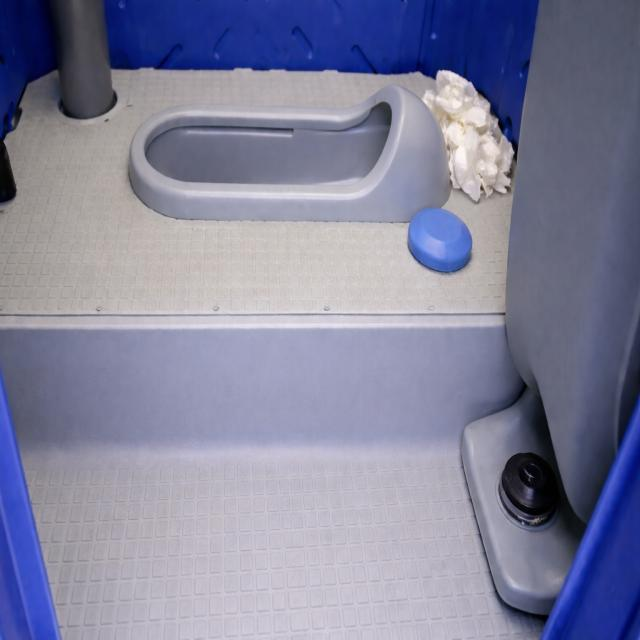garbage: (414, 55, 518, 205)
